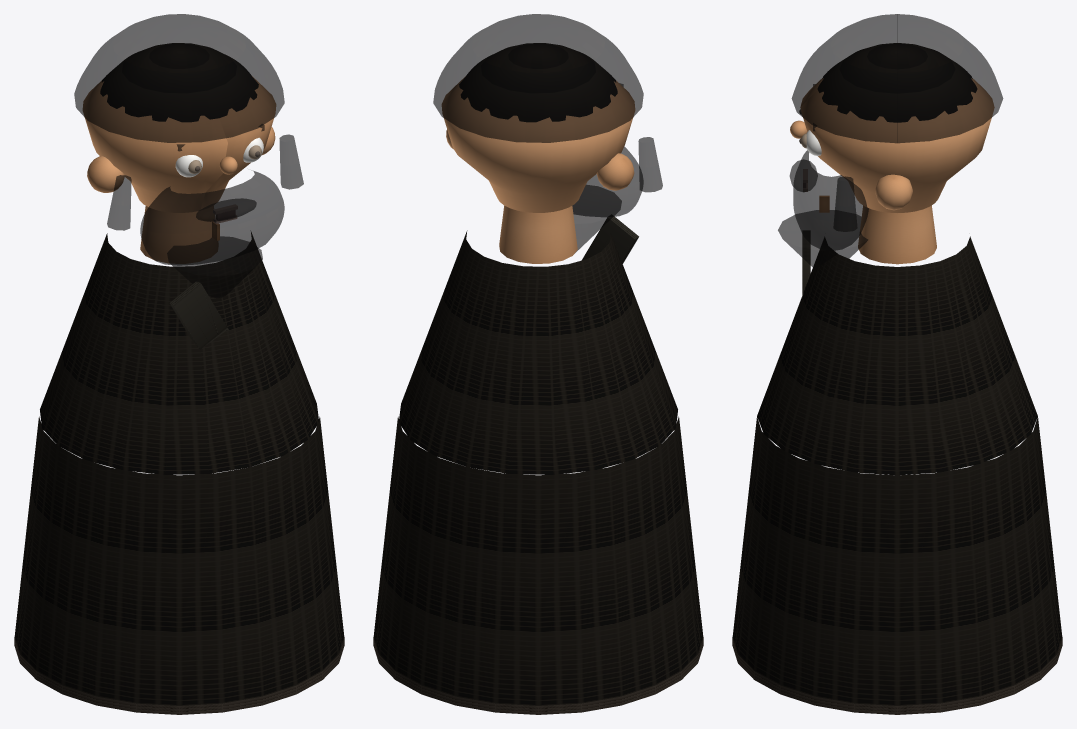
The model's file is market_vendor.glb.
The picture shows the model from 3 angles, left to right: view 1: azimuth 30°, elevation 25°; view 2: azimuth 150°, elevation 25°; view 3: azimuth 270°, elevation 25°; orthographic projection.
Visible parts, largest first — view 1: Character_market_vendor, head; view 2: Character_market_vendor, head; view 3: Character_market_vendor, head.
Part boxes in pixels (x1,y1,x2,y2): Character_market_vendor: [14, 14, 344, 714]; head: [83, 76, 275, 212]; Character_market_vendor: [373, 14, 703, 714]; head: [442, 76, 634, 212]; Character_market_vendor: [732, 14, 1062, 714]; head: [800, 78, 994, 212].
Size of the model in its own units: 0.8682 by 1.8 by 0.8682.
Materials: 12 (7 with a texture image).
